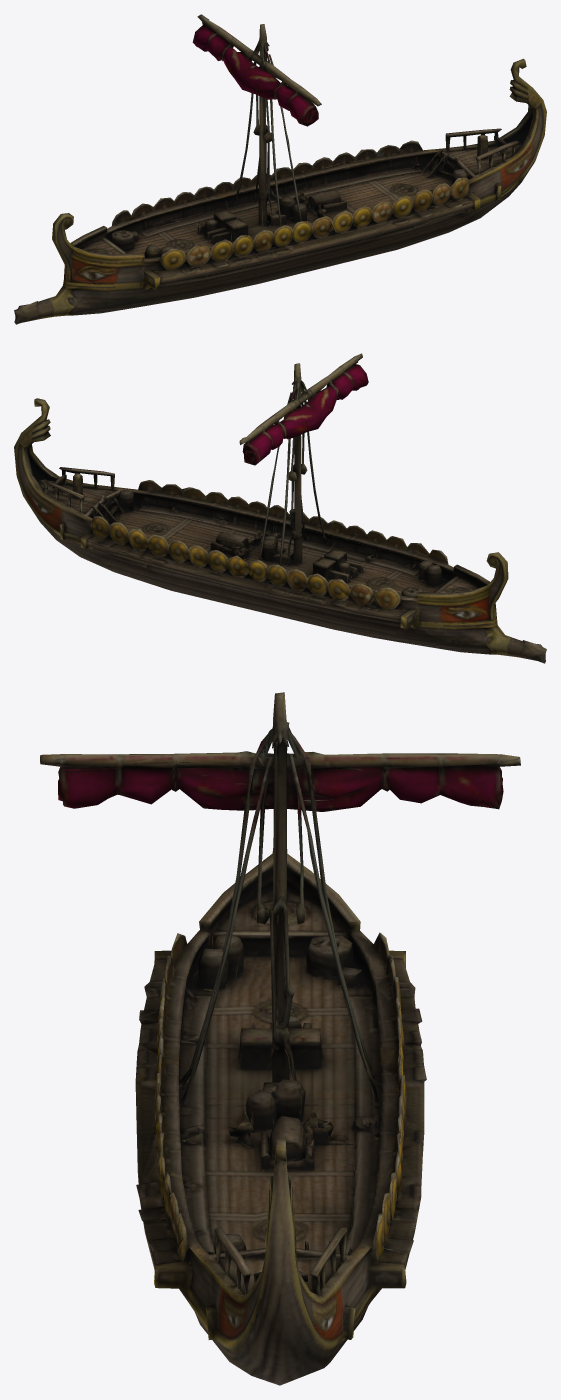
Rendered from AncientShip.glb.
3 renders of one model, top to bottom at view 1: azimuth 30°, elevation 25°; view 2: azimuth 150°, elevation 25°; view 3: azimuth 270°, elevation 25°, orthographic. The views are drawn at different scales.
Parts seen in each view (by area): view 1: low; view 2: low; view 3: low.
Boxes of the visible parts, left/top/right/bottom form: low: left=14, top=14, right=546, bottom=324; low: left=14, top=353, right=546, bottom=663; low: left=40, top=692, right=520, bottom=1385.
Size of the model in its own units: 7.2 by 3.25 by 2.84.
1 material, 1 textured.
